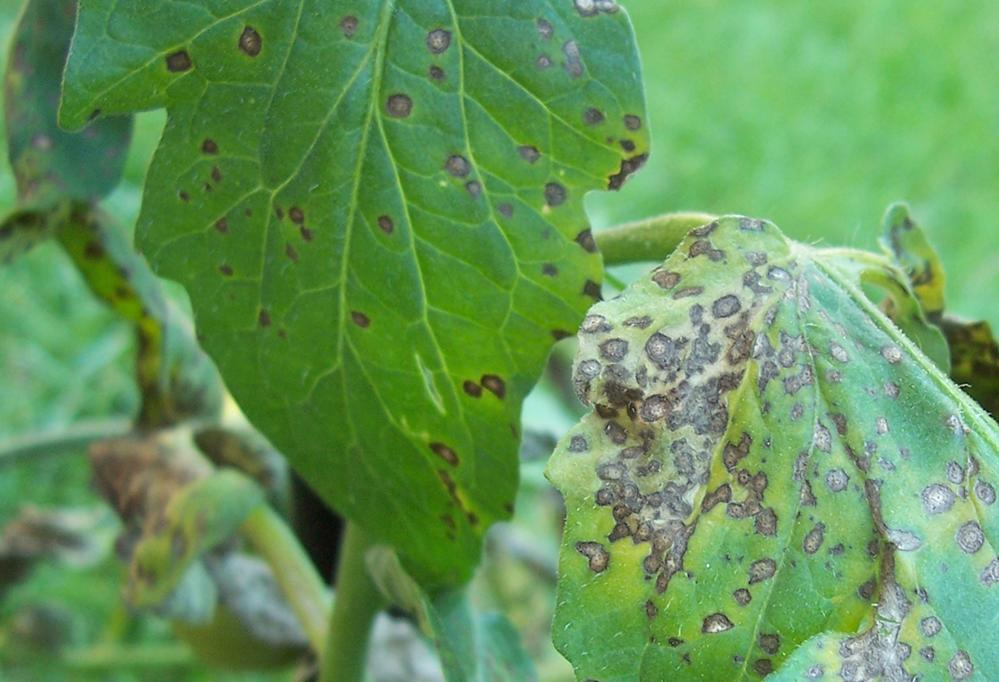Tomato Septoria leaf spot: (62, 0, 680, 618), (573, 208, 999, 682)
